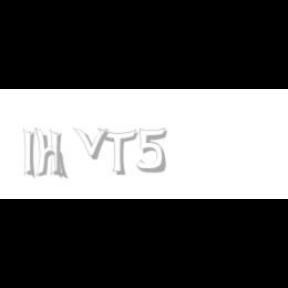5: (136, 128, 168, 174)
I: (50, 128, 62, 180)
T: (97, 128, 137, 176)
h: (34, 128, 70, 180)
l: (23, 128, 39, 180)
v: (73, 128, 113, 160)
